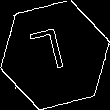L_S: (34, 27, 76, 83)
